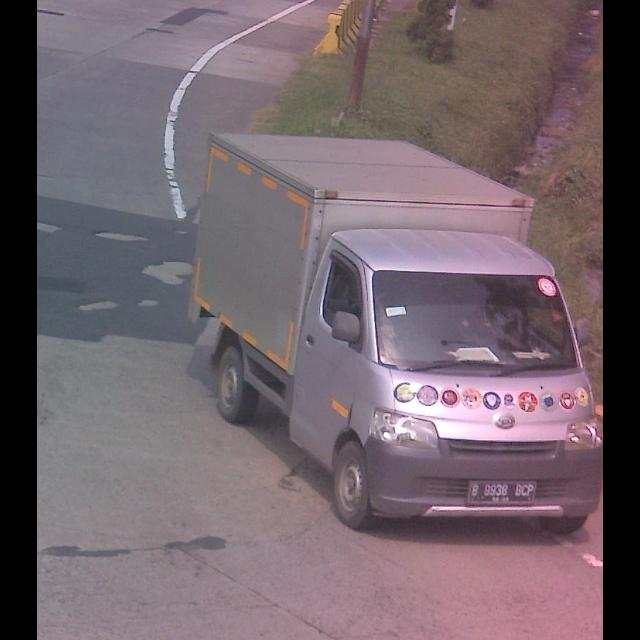plate: (468, 474, 540, 506)
